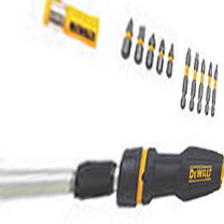screwdriver: (1, 132, 224, 212)
